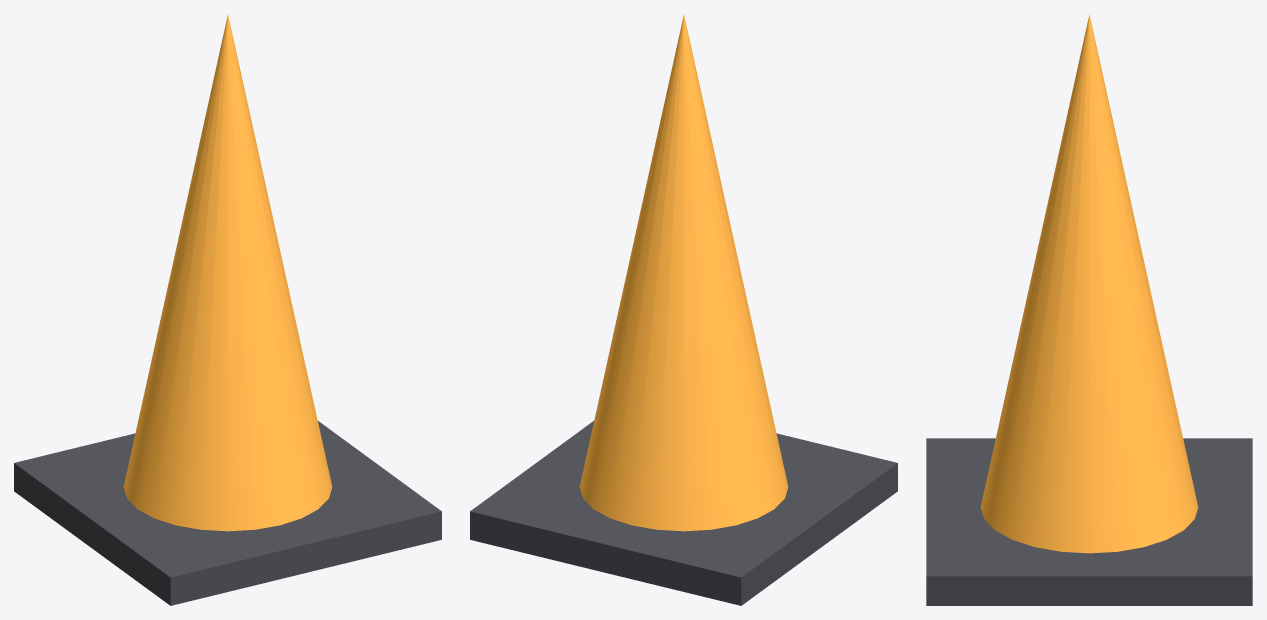
Rendered from traffic_cone.glb.
3 renders of one model, left to right at view 1: azimuth 30°, elevation 25°; view 2: azimuth 150°, elevation 25°; view 3: azimuth 270°, elevation 25°, orthographic. The views are drawn at different scales.
Parts seen in each view (by area): view 1: body, base; view 2: body, base; view 3: body, base.
Boxes of the visible parts, x1=… form: body: x1=123, y1=15, x2=332, y2=531; base: x1=14, y1=421, x2=441, y2=605; body: x1=579, y1=15, x2=788, y2=531; base: x1=470, y1=421, x2=897, y2=605; body: x1=980, y1=14, x2=1198, y2=553; base: x1=926, y1=438, x2=1252, y2=605.
Size of the model in its own units: 0.3 by 0.53 by 0.3.
